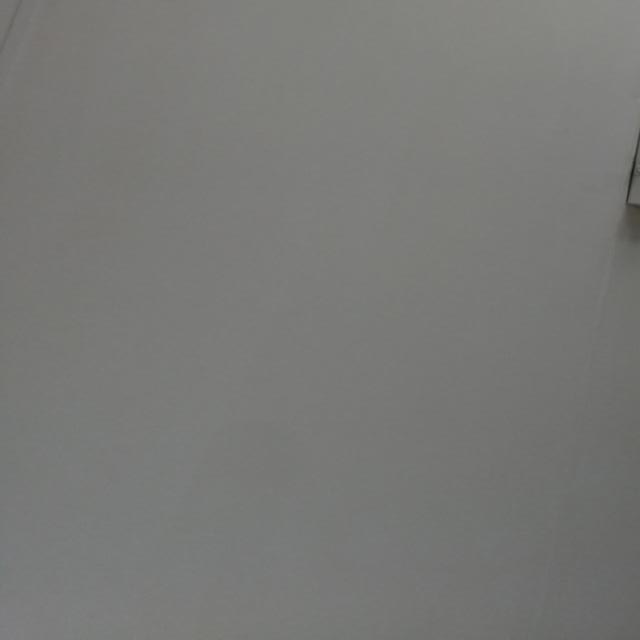fluorescent tube: (576, 0, 640, 263)
